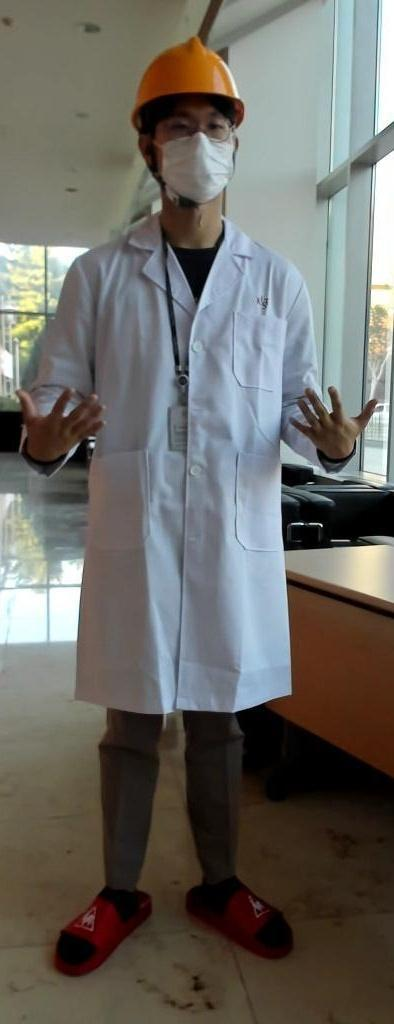lab_coat: (88, 260, 302, 696)
